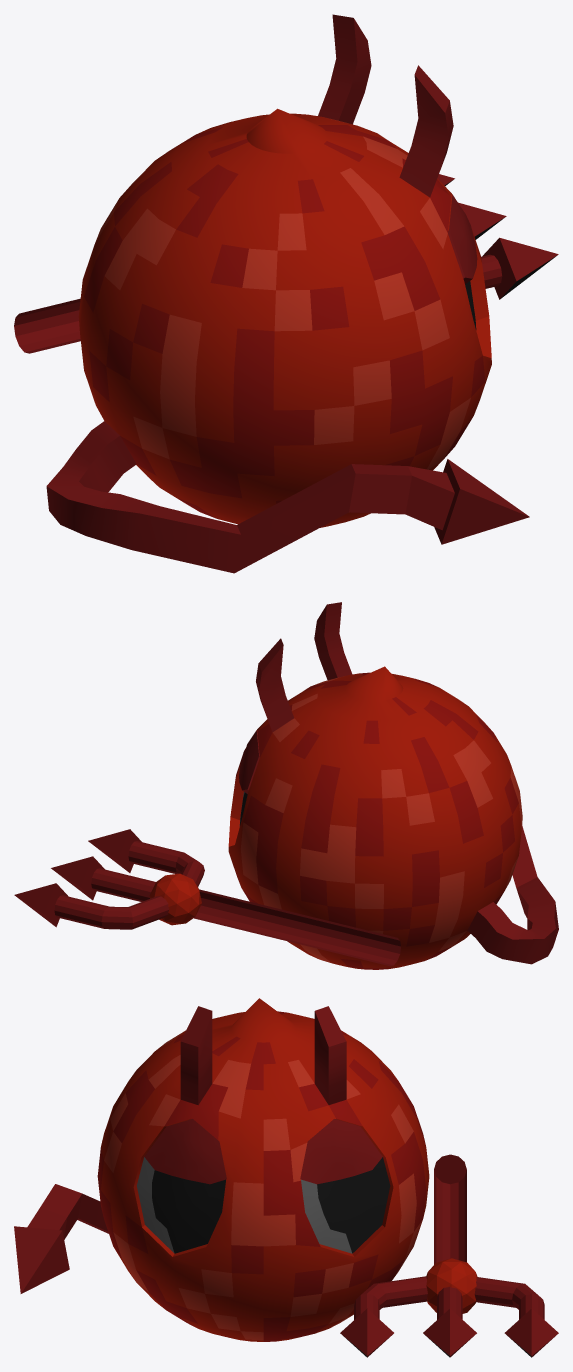
File: Demonturret.fbx
3 views of the same model, one above another, from view 1: azimuth 30°, elevation 25°; view 2: azimuth 150°, elevation 25°; view 3: azimuth 270°, elevation 25° (orthographic). The views are drawn at different scales.
Parts seen in each view (by area): view 1: Sphere.002; view 2: Sphere.002; view 3: Sphere.002.
Boxes of the visible parts, left/top/right/bottom form: Sphere.002: left=14, top=14, right=558, bottom=573; Sphere.002: left=14, top=602, right=558, bottom=969; Sphere.002: left=14, top=998, right=558, bottom=1357.
Size of the model in its own units: 319 by 236 by 329.
